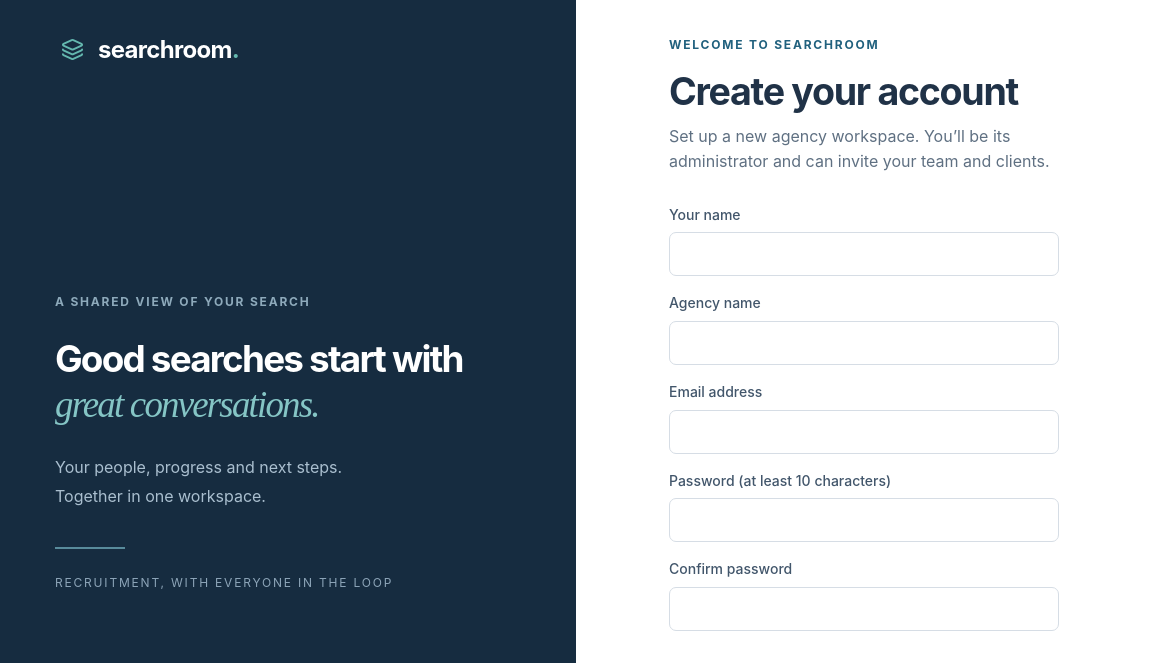
Scenario: preserves signup fields when passwords do not match
This screenshot has width=1152, height=663.
Type "Test" into the field labelled "Your name" at [864, 254], box top-left (669, 232), bottom-right (1059, 276)
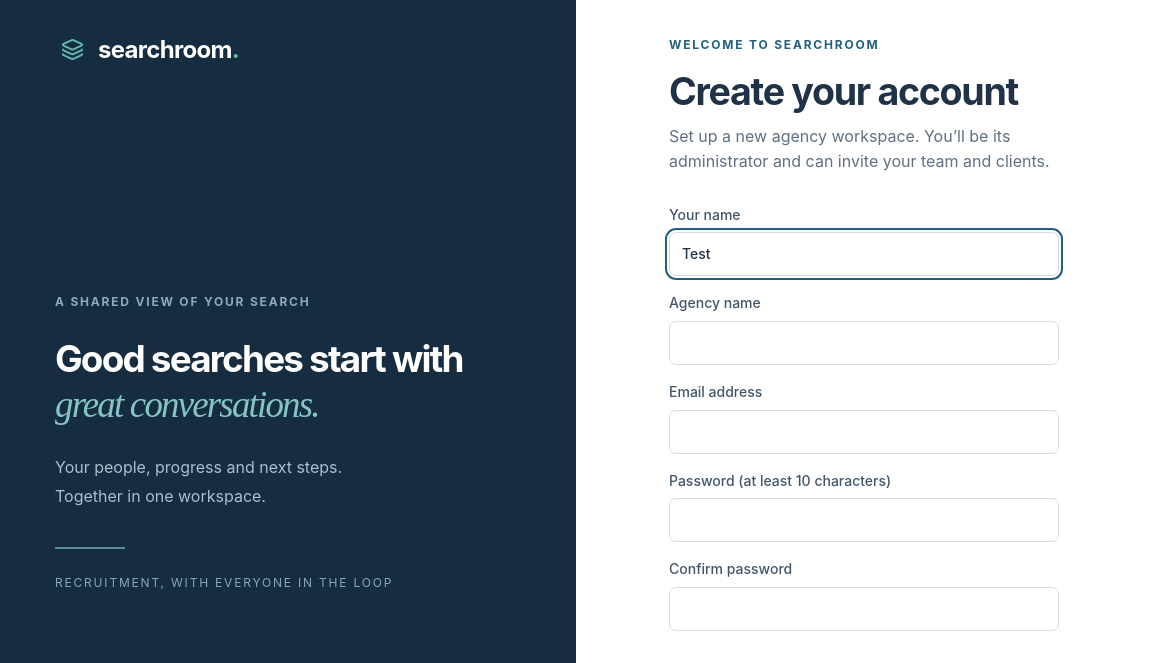
Type "Agency" into the field labelled "Agency name" at [864, 343], box top-left (669, 321), bottom-right (1059, 365)
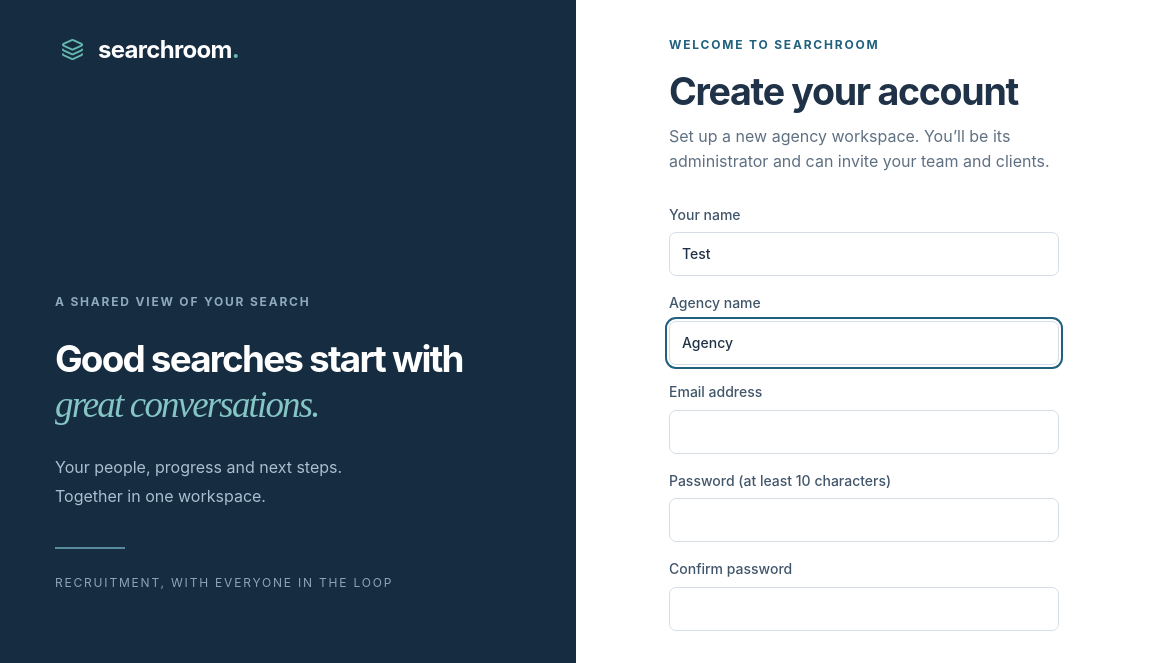
Type "test@example.com" into the field labelled "Email address" at [864, 432], box top-left (669, 410), bottom-right (1059, 454)
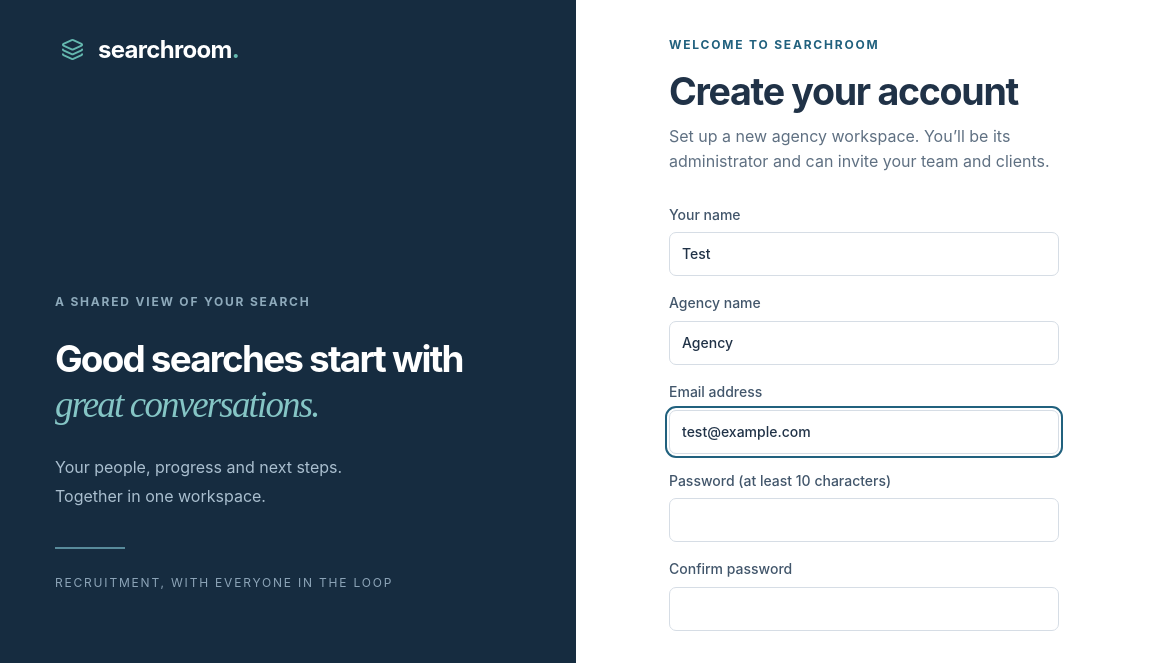
Type "PasswordForTests!" into the password field labelled "Password (at least 10 characters)" at [864, 520], box top-left (669, 498), bottom-right (1059, 542)
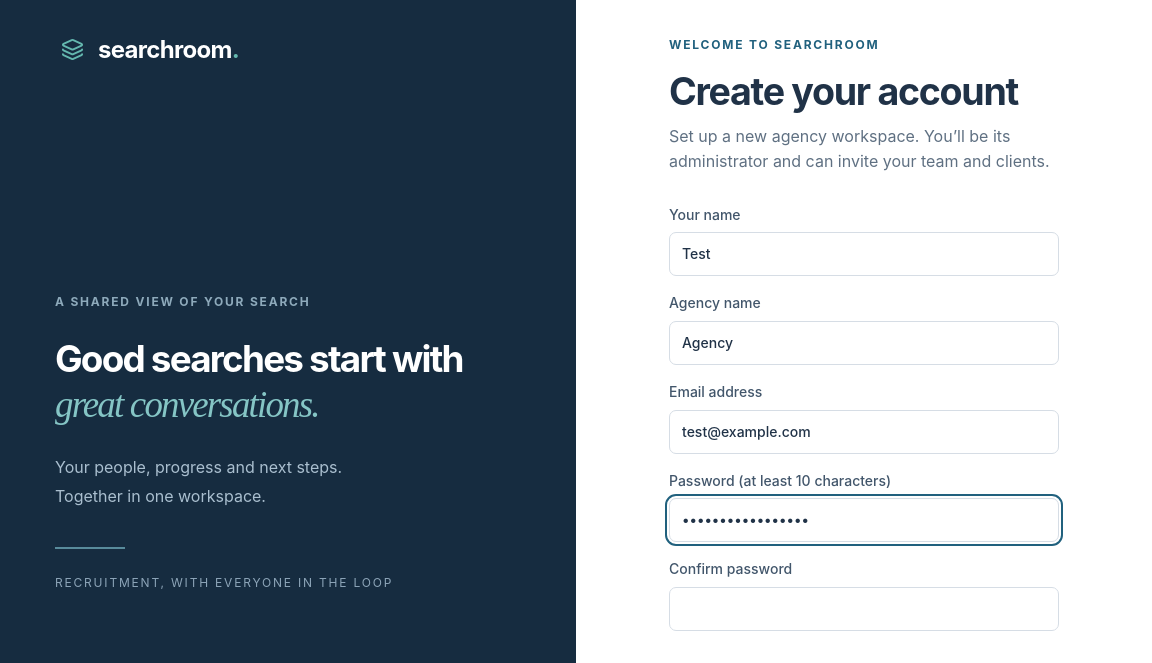
Type "AnotherPassword!" into the password field labelled "Confirm password" at [864, 609], box top-left (669, 587), bottom-right (1059, 631)
(page scrolled)
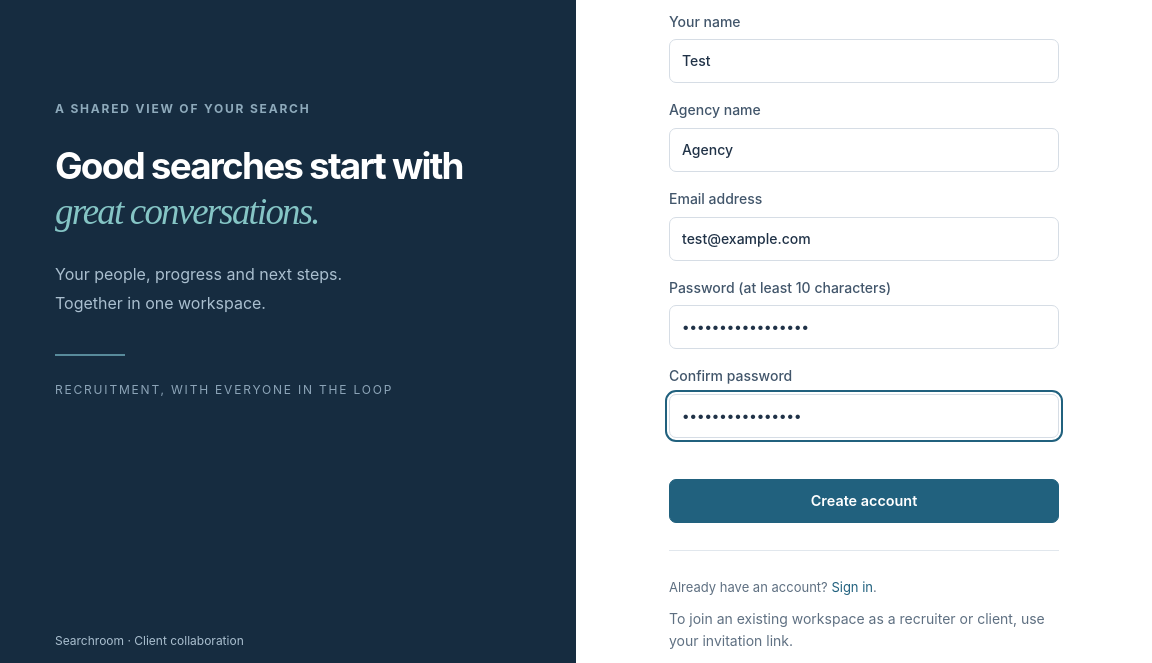
Click the button "Create account" at [864, 501], box top-left (669, 479), bottom-right (1059, 523)
(page scrolled)
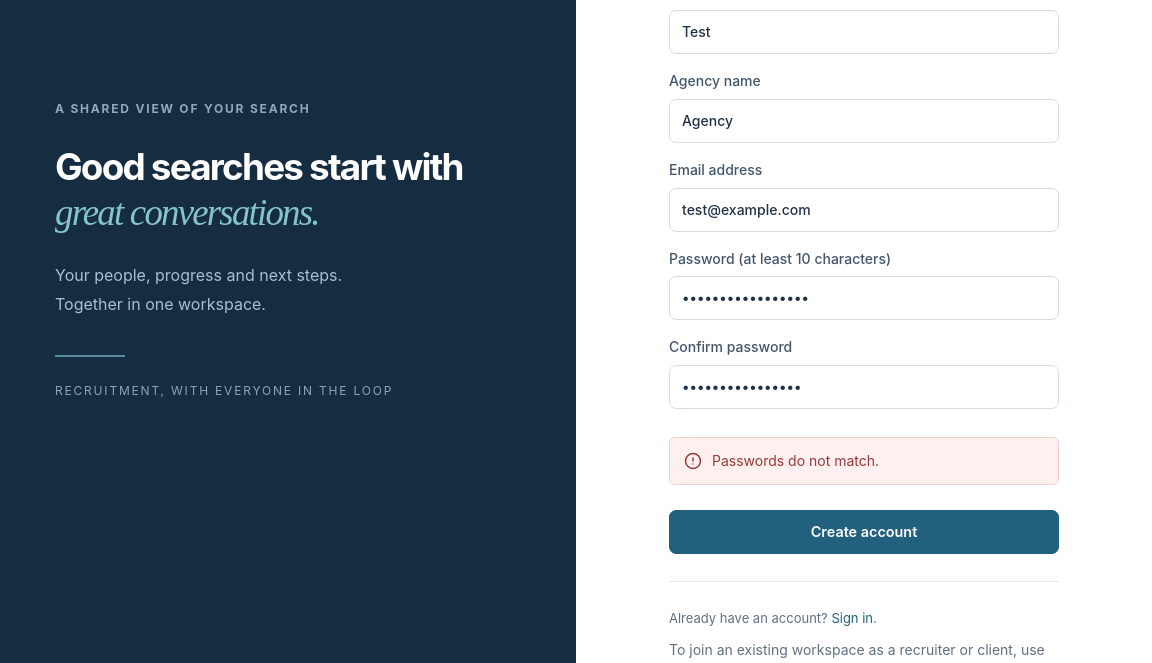
Expected: the message reads "Passwords do not match.", top-left (712, 452), bottom-right (879, 469)
